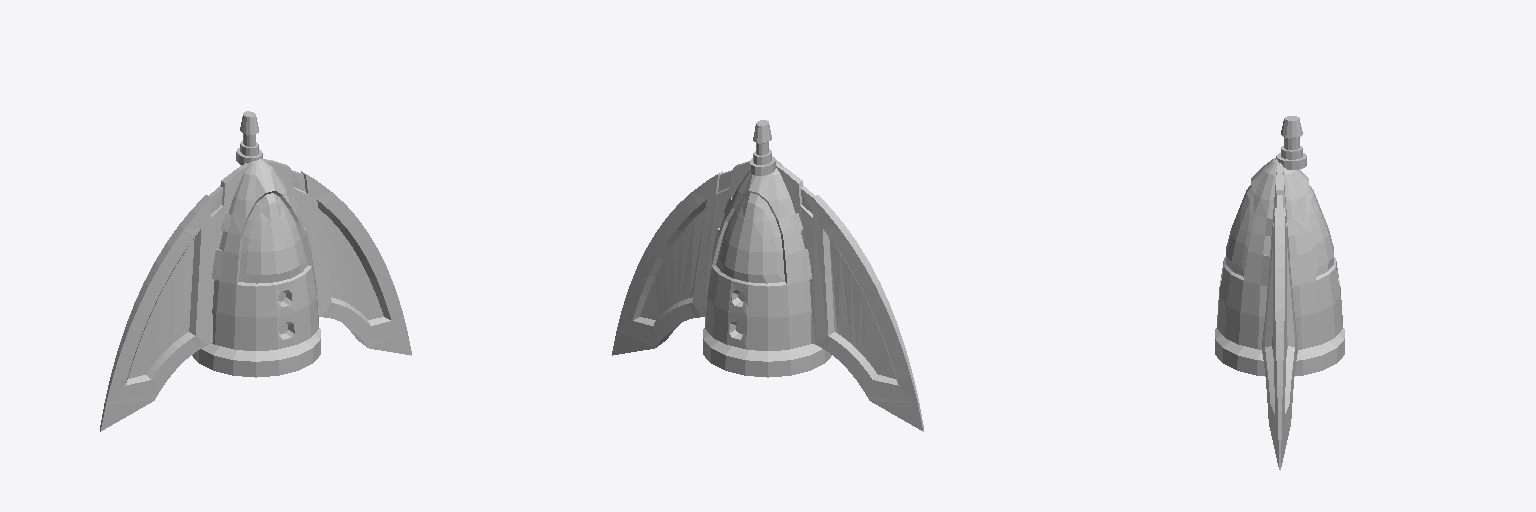
The model's file is Ship1.obj.
3 views of the same model, side by side, from view 1: azimuth 30°, elevation 25°; view 2: azimuth 150°, elevation 25°; view 3: azimuth 270°, elevation 25° (orthographic).
Parts seen in each view (by area): view 1: [number redacted]__4018P; view 2: [number redacted]__4018P; view 3: [number redacted]__4018P.
Part boxes in pixels (x1,y1,x2,y2): [number redacted]__4018P: (100,111,411,431); [number redacted]__4018P: (612,120,923,431); [number redacted]__4018P: (1215,116,1344,469).
Size of the model in its own units: 154 by 129 by 55.85.